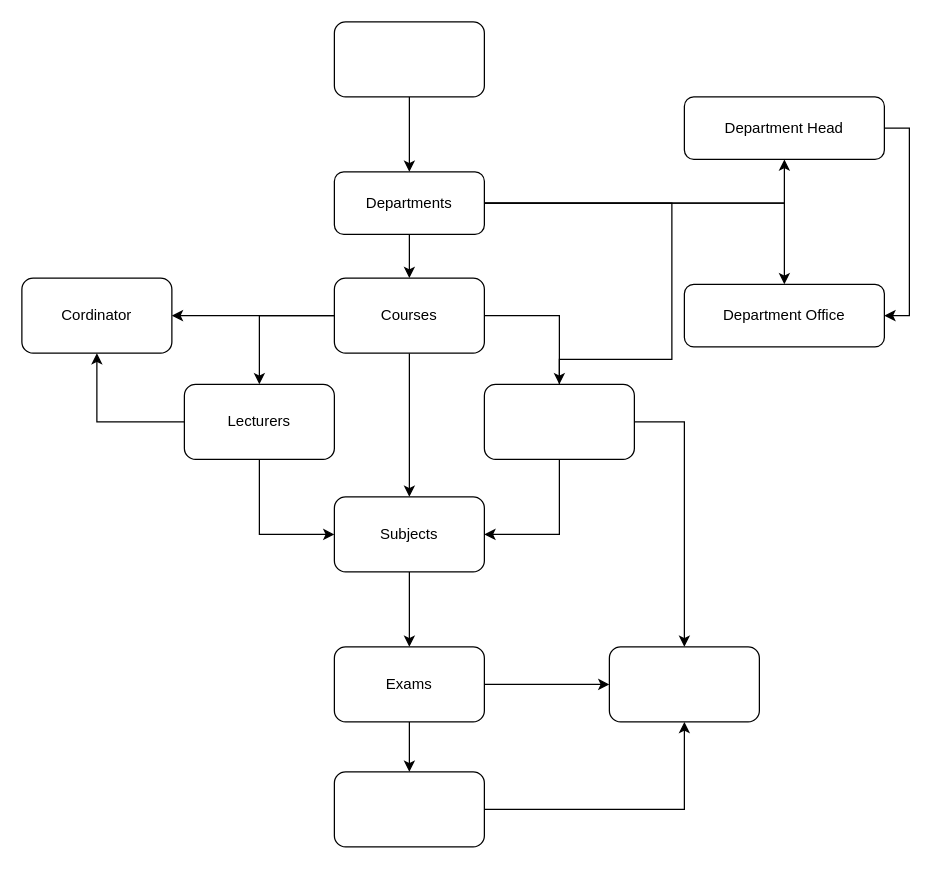
This 941x869 diagram has some shape labels left out. The centre of each missing label's shape, as x and y in pixels:
Exam Schedules: pixel 408 809
North Eastern College: pixel 408 59
Results: pixel 683 684
Students: pixel 558 421
